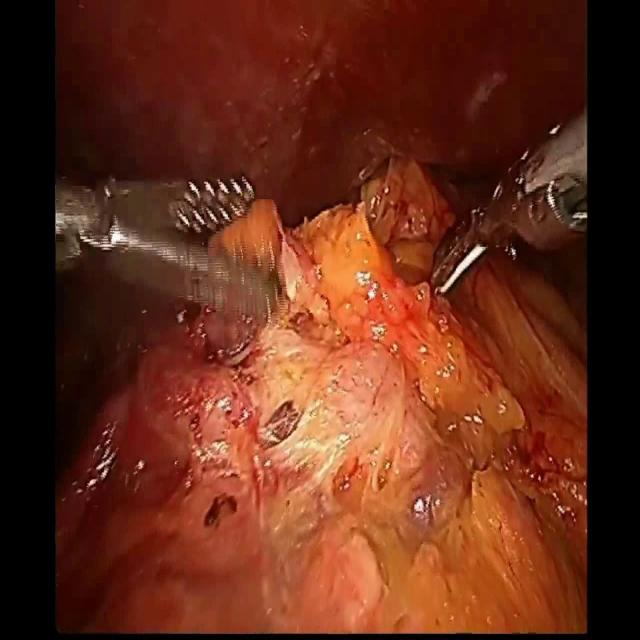surgical-area: (56, 0, 587, 634)
surgical-tool: (56, 175, 279, 324), (429, 100, 587, 297)
